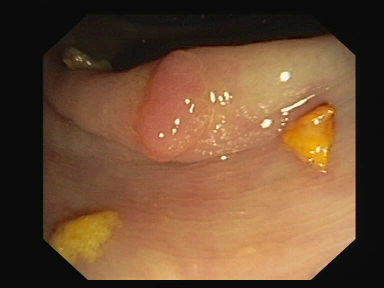polyp: (115, 51, 237, 161), (46, 184, 145, 268), (275, 97, 367, 175)
